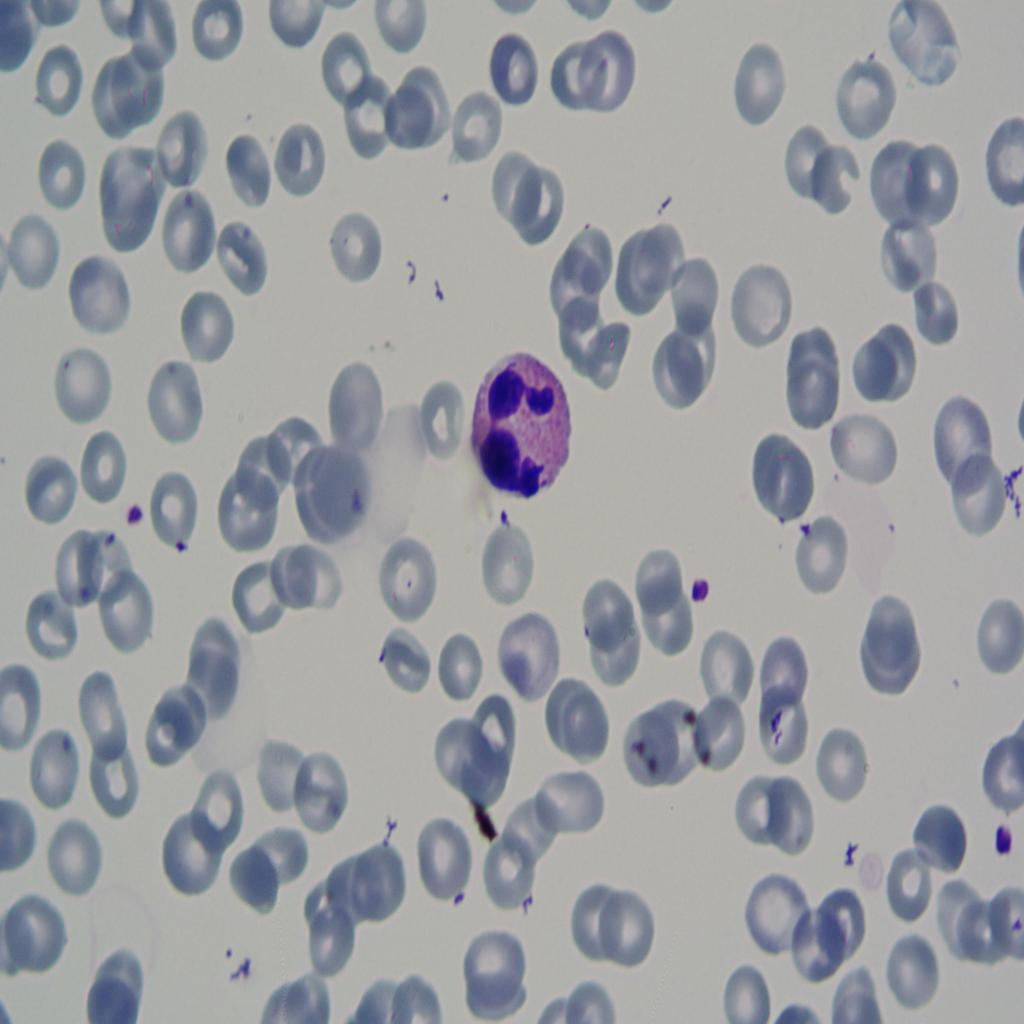Eosinofil: (468, 339, 575, 502)
Platelet: (685, 565, 714, 613), (988, 820, 1014, 867), (119, 497, 145, 537), (494, 504, 514, 537), (172, 532, 192, 561)
